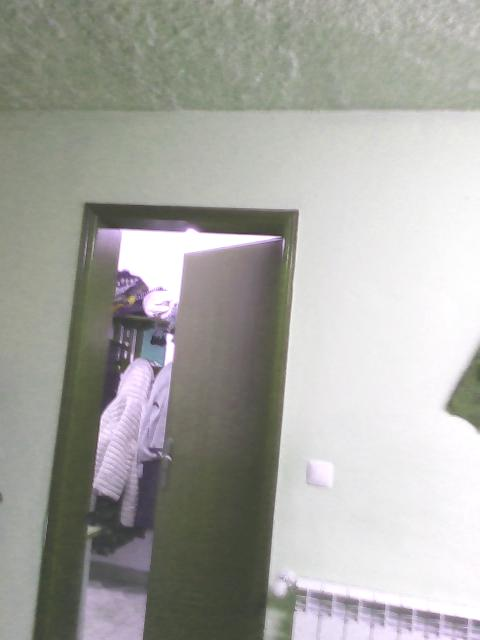semi_door: (29, 196, 302, 639)
